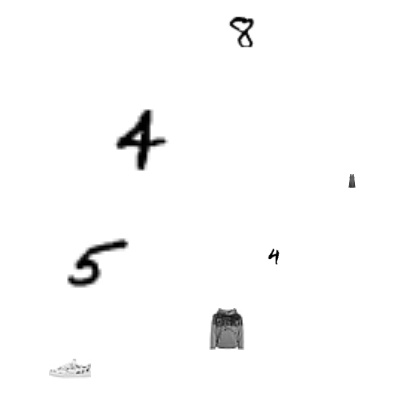4: (96, 95, 180, 179), (263, 244, 285, 266)
5: (50, 218, 134, 302)
8: (221, 8, 263, 50)
Dress: (345, 174, 359, 188)
Pullover: (205, 308, 247, 350)
Sneaker: (49, 347, 91, 389)
